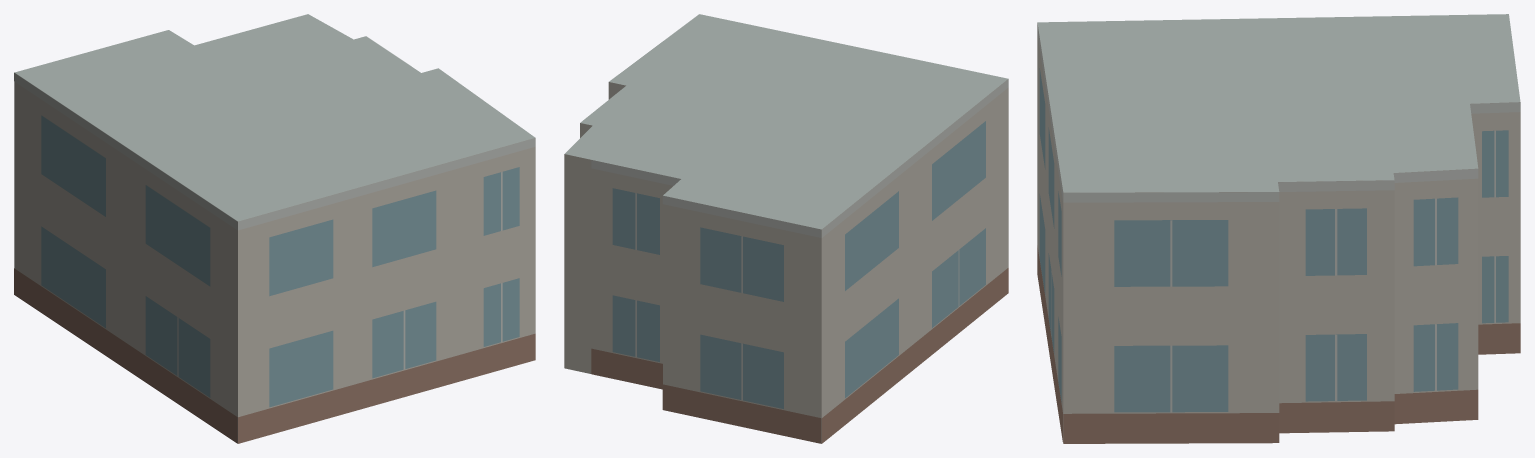
File: survey-upis-32785258.glb
3 renders of one model, left to right at view 1: azimuth 30°, elevation 25°; view 2: azimuth 150°, elevation 25°; view 3: azimuth 270°, elevation 25°, orthographic. The views are drawn at different scales.
Parts seen in each view (by area): view 1: survey-upis-32785258.tmp; view 2: survey-upis-32785258.tmp; view 3: survey-upis-32785258.tmp.
Part boxes in pixels (box(x1,y1,x2,y2)): survey-upis-32785258.tmp: box(14, 14, 535, 443); survey-upis-32785258.tmp: box(564, 14, 1008, 443); survey-upis-32785258.tmp: box(1037, 14, 1520, 443).
Bounding box in the file's own units: 9.32 × 6.1 × 10.65.
